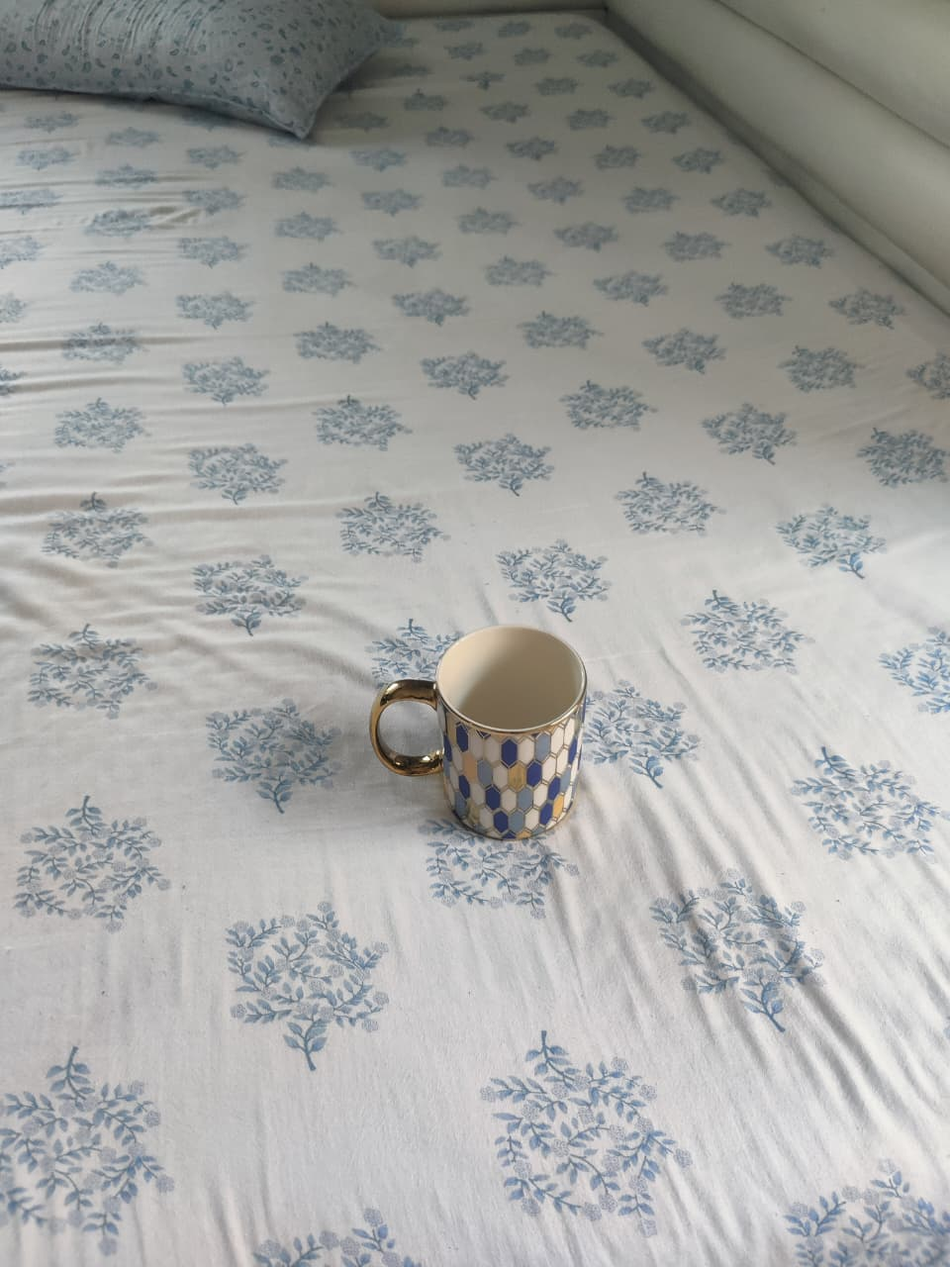cup: (369, 625, 588, 842)
